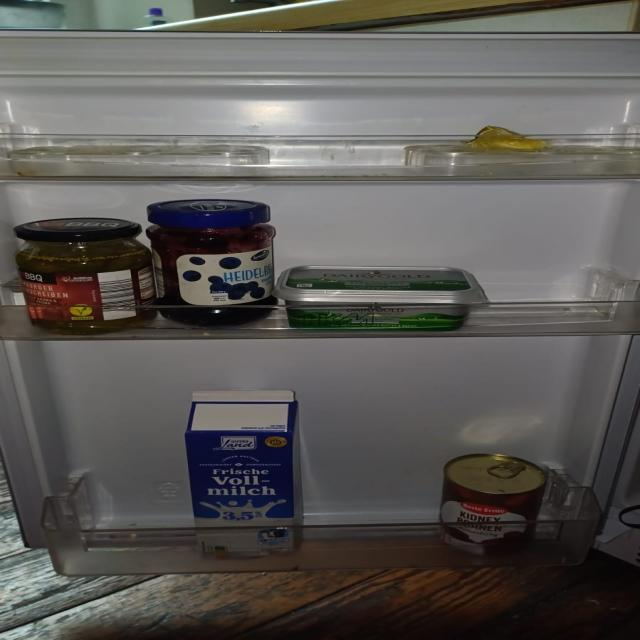Beans: (443, 448, 548, 562)
Butter: (278, 257, 488, 327)
Jam: (144, 197, 274, 325)
Lemon: (456, 119, 560, 165)
Milk: (171, 384, 311, 558)
Pickle: (10, 214, 156, 329)
